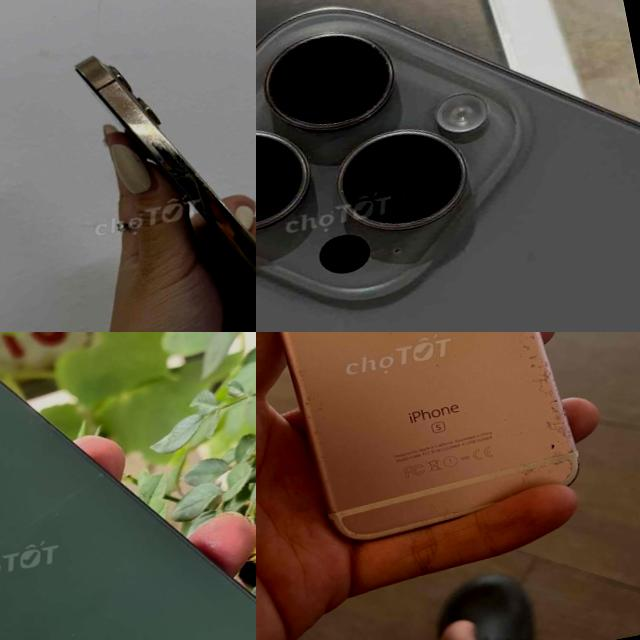gen_12_13: (0, 332, 256, 640), (61, 11, 256, 332)
gen_15: (256, 0, 640, 332)
gen_6: (280, 332, 578, 540)
